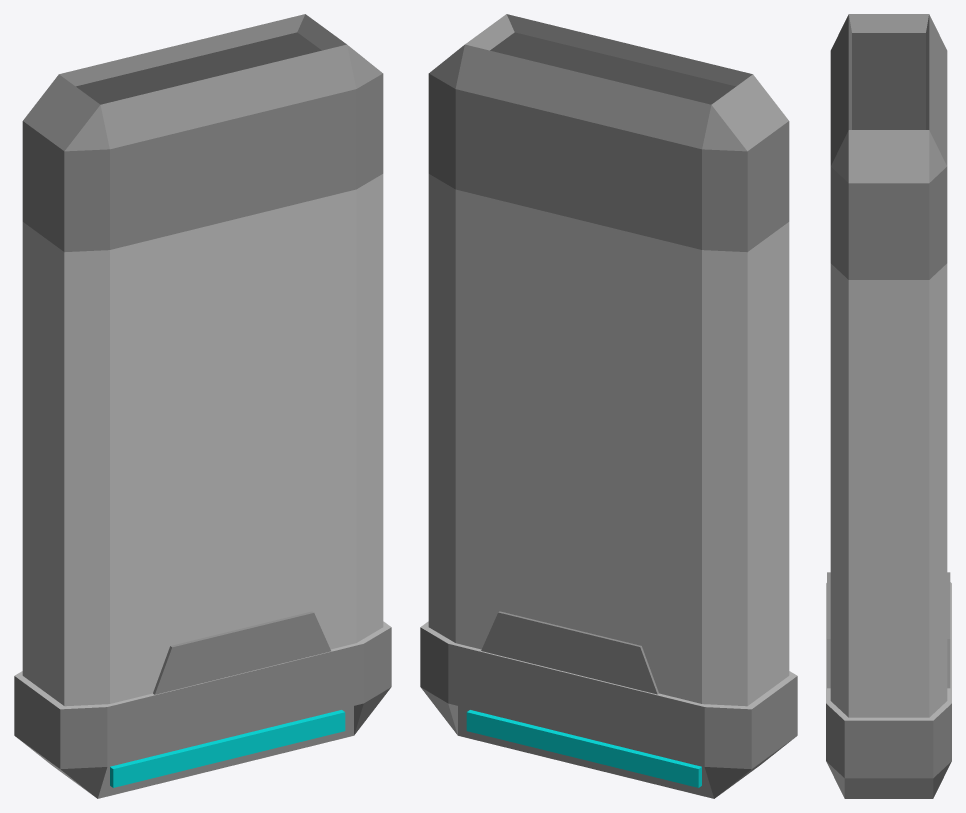
The model's file is SM_Magazine_M.fbx.
The picture shows the model from 3 angles, left to right: view 1: azimuth 30°, elevation 25°; view 2: azimuth 150°, elevation 25°; view 3: azimuth 270°, elevation 25°; orthographic projection. The views are drawn at different scales.
Parts seen in each view (by area): view 1: SM_Magazine_M; view 2: SM_Magazine_M; view 3: SM_Magazine_M.
Part boxes in pixels (x1,y1,x2,y2): SM_Magazine_M: [14, 14, 391, 798]; SM_Magazine_M: [420, 14, 797, 798]; SM_Magazine_M: [826, 14, 951, 798].
Size of the model in its own units: 6.39 by 12.75 by 2.18.
